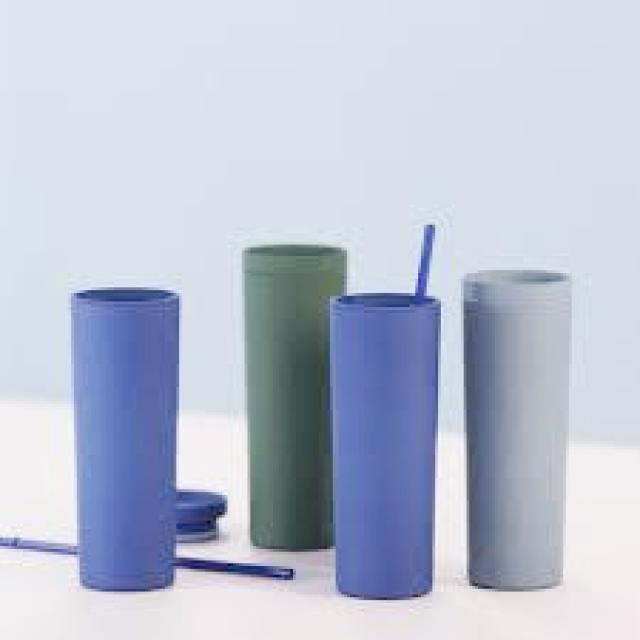bottle: (332, 223, 446, 602), (458, 263, 577, 593), (64, 283, 181, 596)
